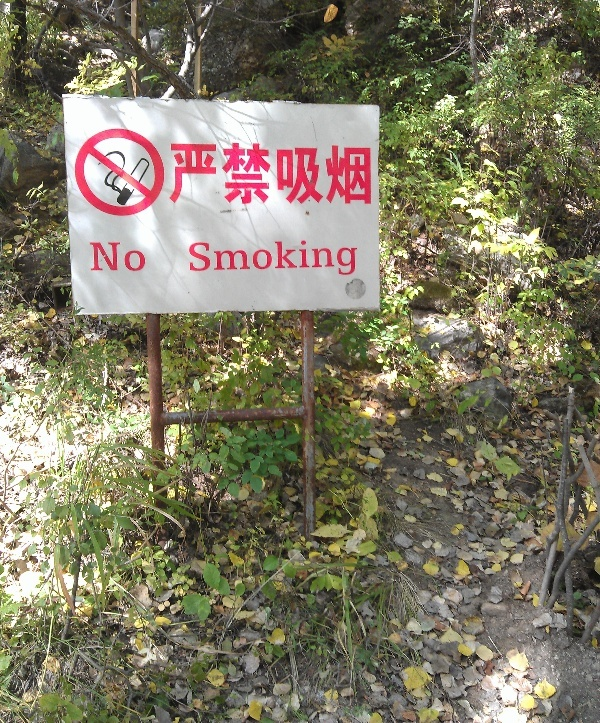text: (177, 143, 192, 207), (193, 143, 208, 207), (209, 143, 224, 207), (225, 143, 240, 207), (241, 143, 256, 207), (257, 143, 272, 207), (273, 143, 288, 207), (289, 143, 304, 207), (305, 143, 320, 207), (321, 143, 336, 207), (337, 143, 352, 207), (353, 143, 368, 207), (193, 239, 208, 278), (209, 239, 224, 278), (225, 239, 240, 278), (241, 239, 256, 278), (257, 239, 272, 278), (273, 239, 288, 278), (289, 239, 304, 278), (305, 239, 320, 278), (321, 239, 336, 278), (337, 239, 352, 278), (97, 242, 112, 274), (113, 242, 128, 274), (129, 242, 144, 274), (170, 143, 176, 207), (369, 143, 374, 207), (89, 242, 96, 274), (188, 239, 192, 278), (353, 239, 357, 278), (145, 242, 146, 274)
